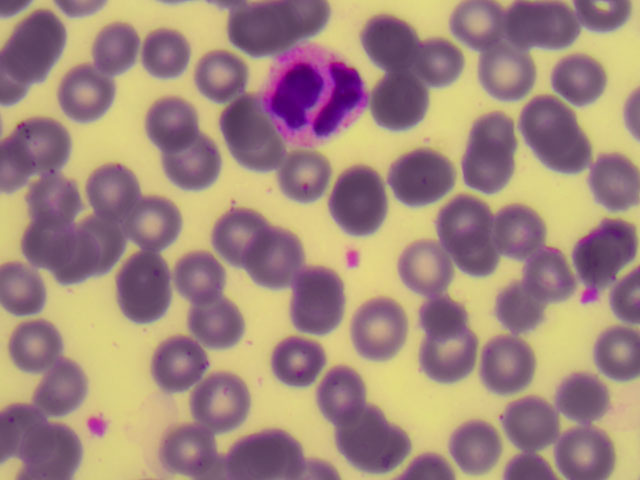Platelets: (87, 421, 106, 435)
RBC: (219, 424, 305, 480), (189, 372, 246, 431), (115, 259, 170, 315), (1, 257, 54, 313), (510, 1, 572, 44), (172, 249, 227, 297), (21, 425, 76, 473), (160, 424, 215, 472), (15, 118, 70, 166), (395, 242, 450, 290), (346, 421, 401, 469), (326, 396, 381, 444), (316, 367, 371, 415), (269, 335, 324, 383), (187, 300, 242, 348), (150, 345, 205, 393), (165, 140, 220, 188), (276, 149, 331, 197), (34, 363, 89, 411), (11, 322, 66, 370), (332, 167, 387, 215), (85, 164, 140, 212), (47, 230, 102, 278), (21, 216, 76, 264), (27, 173, 82, 221), (137, 28, 192, 76), (58, 68, 113, 116), (143, 95, 198, 143), (349, 304, 404, 352), (292, 273, 347, 321), (247, 229, 302, 277), (540, 126, 595, 174), (585, 154, 640, 202), (585, 218, 640, 266), (516, 250, 571, 298), (496, 278, 551, 326), (422, 334, 477, 382), (481, 339, 536, 387), (394, 153, 449, 201), (494, 203, 549, 251), (461, 141, 516, 189), (519, 98, 574, 146), (359, 13, 414, 61), (372, 79, 427, 127), (414, 39, 469, 87), (482, 49, 537, 97), (553, 50, 608, 98), (465, 108, 520, 156), (10, 13, 65, 61), (86, 22, 141, 70), (222, 96, 277, 144), (227, 131, 282, 179), (193, 48, 248, 96), (363, 102, 418, 150), (415, 294, 470, 342), (559, 423, 614, 471), (448, 412, 503, 460), (503, 394, 558, 442), (561, 370, 616, 418), (218, 204, 273, 252), (1, 39, 55, 87), (227, 1, 282, 48), (127, 192, 177, 242), (452, 1, 511, 42), (272, 1, 338, 35), (589, 327, 640, 371), (575, 1, 634, 32), (407, 452, 457, 480), (506, 448, 556, 475), (1, 148, 33, 188)
WBC: (267, 53, 373, 142)
